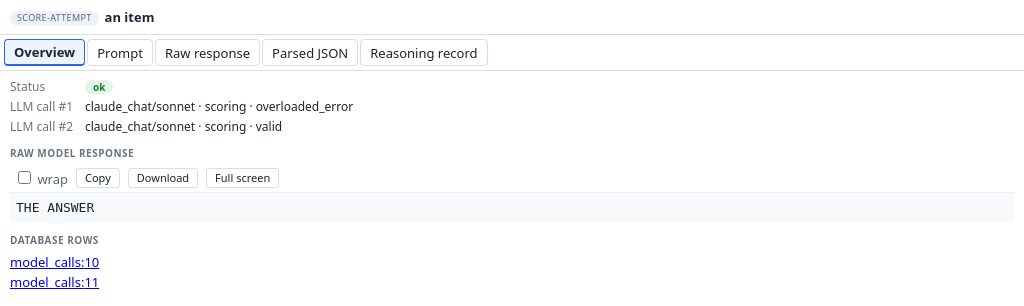
Scenario: Inspector › lets the attempt picker switch to the errored attempt and explains the gap
The width and height of the screenshot is (1024, 306).
What coordinates should you click on to do the following:
click the tab "Raw response"
I would click on:
 (207, 53)
Its box is [155,39,260,66].
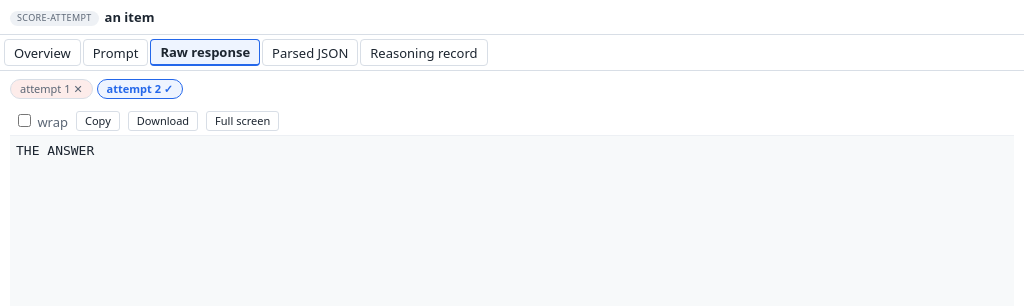
What coordinates should you click on to do the following:
click the tab "attempt 1 ✕"
I would click on:
 (51, 89)
Its box is [10,79,93,99].
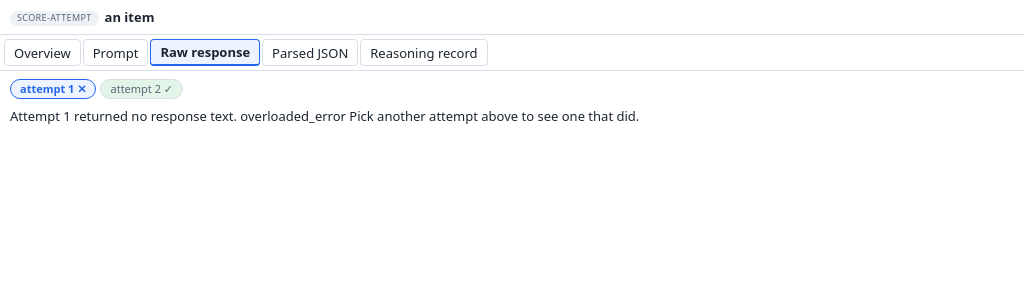
Now the text "returned no response text" is shown, box [74,107,234,125]
Now the text "overloaded_error" is shown, box [237,107,346,125]
